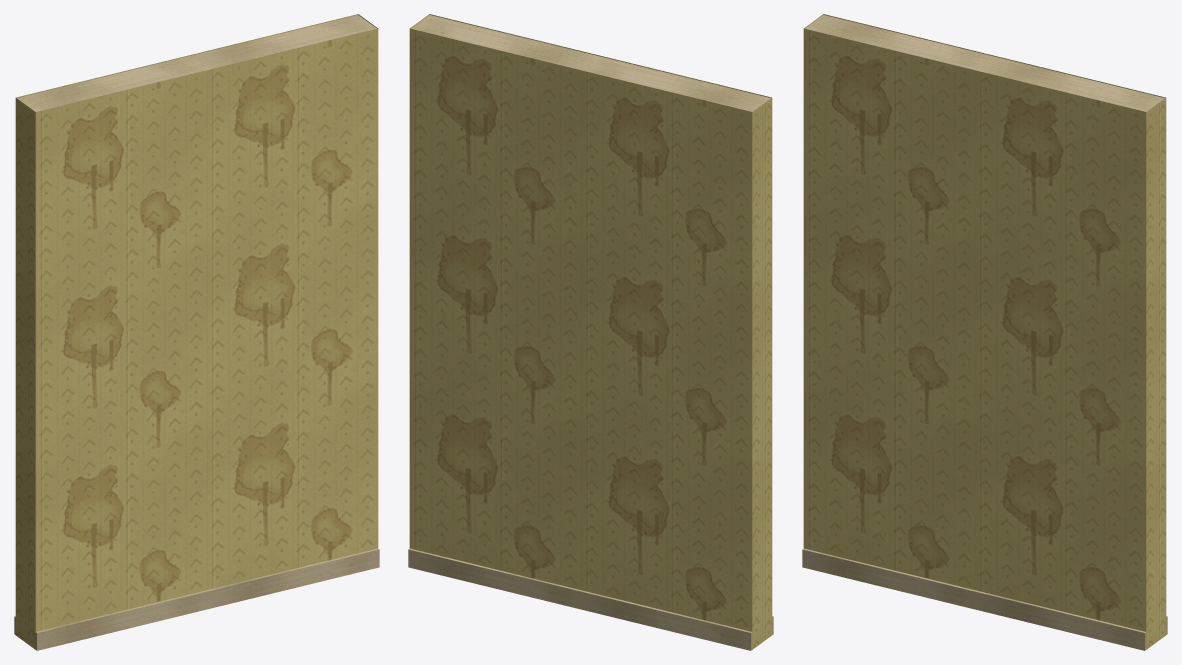
File: back_wall_damp.obj
The picture shows the model from 3 angles, left to right: view 1: azimuth 30°, elevation 25°; view 2: azimuth 150°, elevation 25°; view 3: azimuth 330°, elevation 25°; orthographic projection.
Parts seen in each view (by area): view 1: back_wall_damp_wall_damp, back_wall_damp_trim; view 2: back_wall_damp_wall_damp, back_wall_damp_trim; view 3: back_wall_damp_wall_damp, back_wall_damp_trim.
Boxes of the visible parts, x1,y1,x2,y2 form: back_wall_damp_wall_damp: [15, 14, 378, 649]; back_wall_damp_trim: [14, 15, 379, 650]; back_wall_damp_wall_damp: [409, 14, 772, 649]; back_wall_damp_trim: [408, 15, 773, 650]; back_wall_damp_wall_damp: [803, 14, 1166, 649]; back_wall_damp_trim: [802, 15, 1167, 650].
Size of the model in its own units: 2 by 3 by 0.23.
2 materials, 2 textured.
